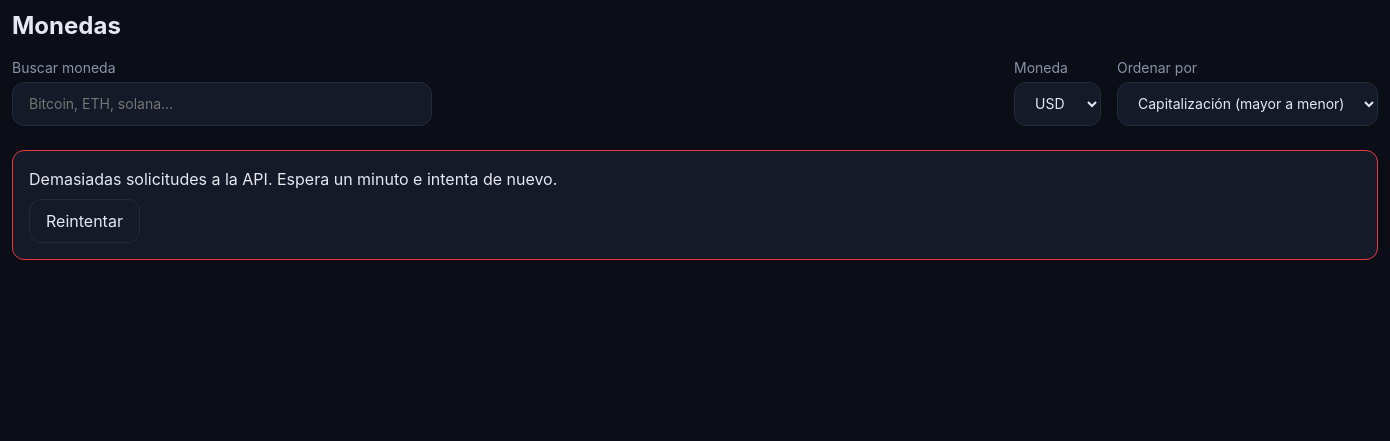
Página Coins › muestra el error y permite reintentar
Expected: the message shows "Demasiadas solicitudes", 29,169 -> 557,189
Click the button "Reintentar".
click(84, 221)  # box 29,199 -> 140,243
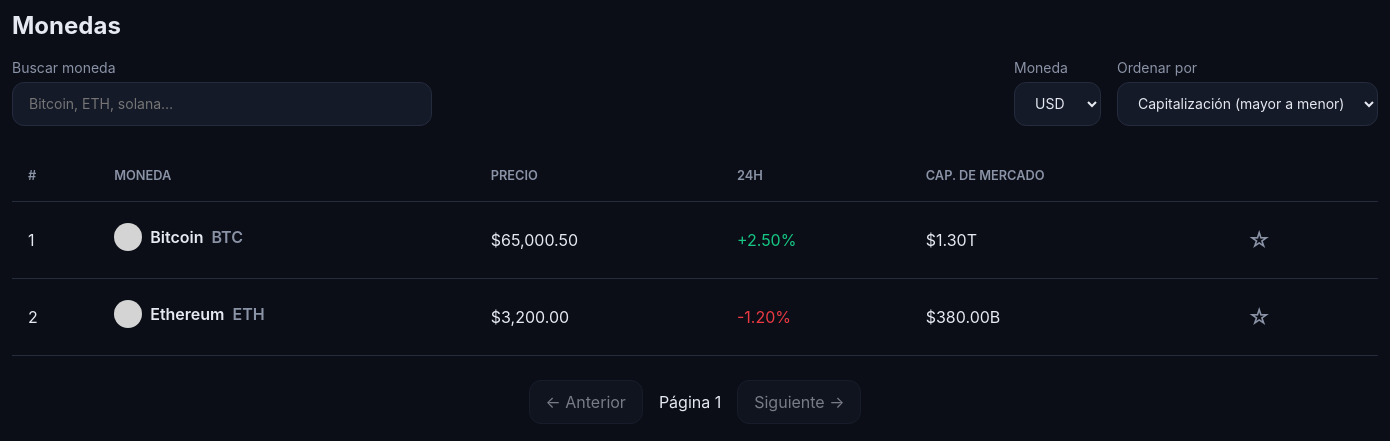
Now the text "Bitcoin" is shown, box 150,225 -> 204,249
Now the message is gone
